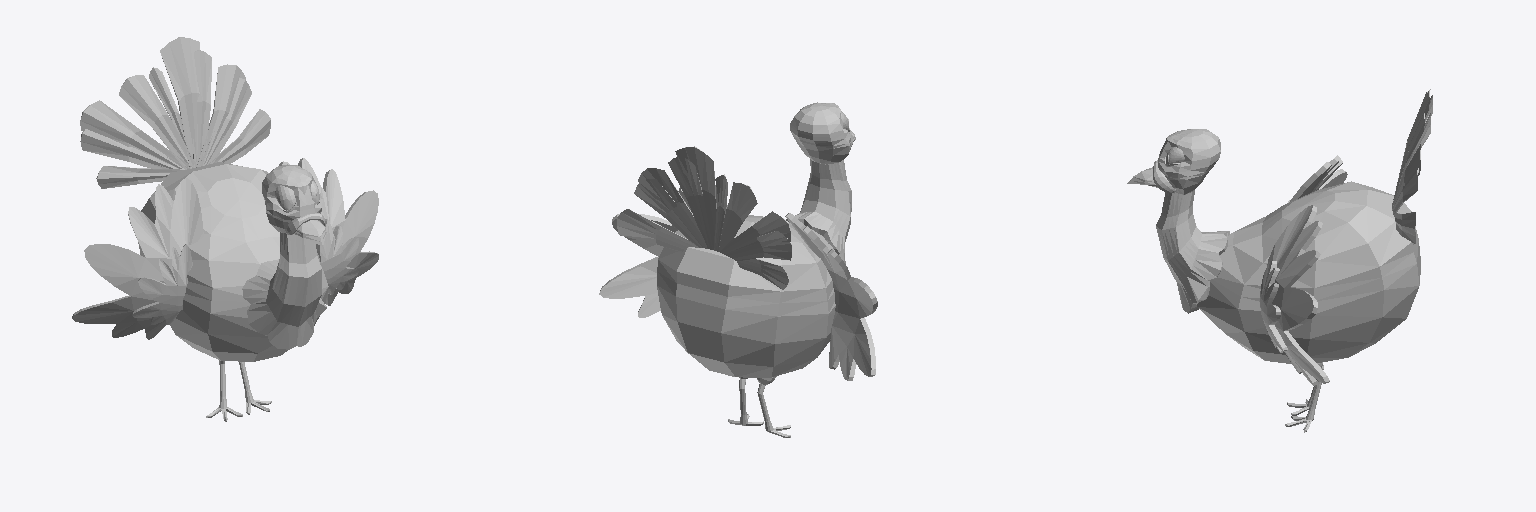
File: Turkeywithoutcage.obj
3 views of the same model, side by side, from view 1: azimuth 30°, elevation 25°; view 2: azimuth 150°, elevation 25°; view 3: azimuth 270°, elevation 25° (orthographic).
Visible parts, largest first — view 1: polySurface43; view 2: polySurface43; view 3: polySurface43.
Boxes of the visible parts, box(x1,y1,x2,y2) form: polySurface43: box(72, 37, 378, 421); polySurface43: box(599, 102, 877, 437); polySurface43: box(1127, 89, 1432, 432).
Size of the model in its own units: 0.7577 by 0.8162 by 0.6887.